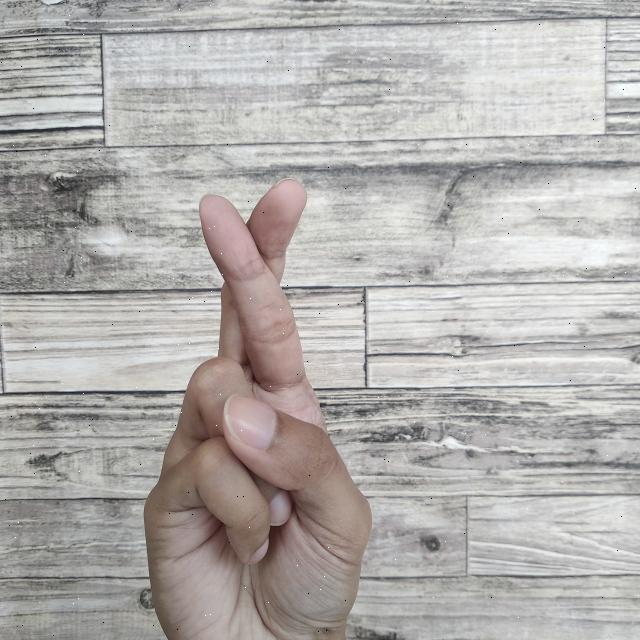R: (141, 168, 377, 640)
